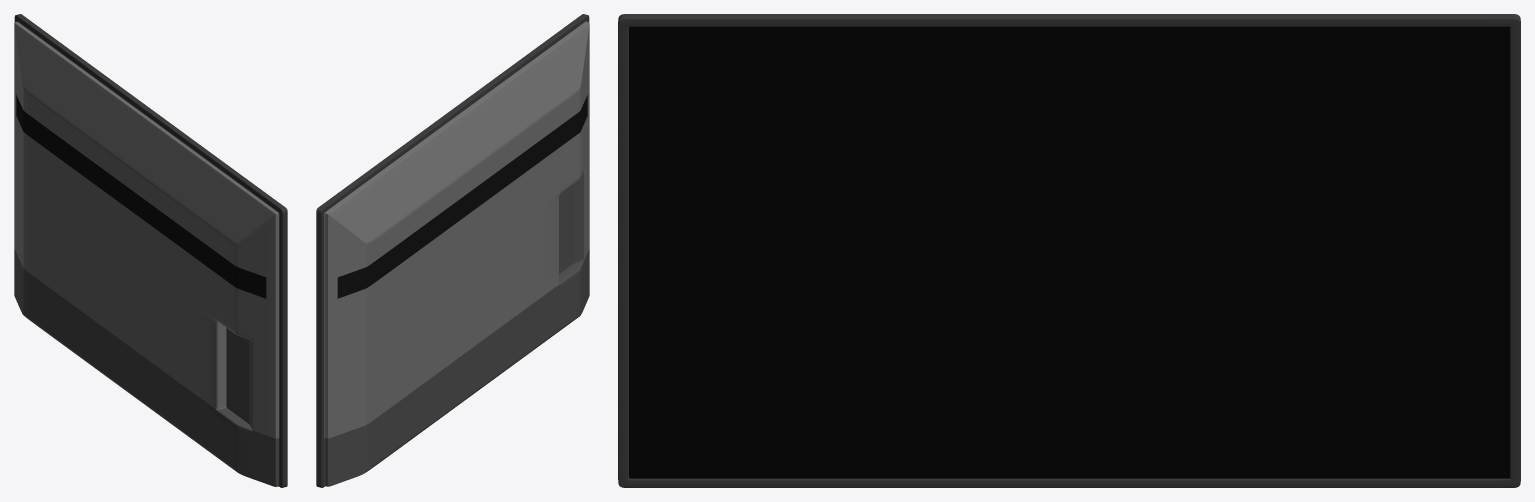
3 views of the same model, side by side, from view 1: azimuth 30°, elevation 25°; view 2: azimuth 150°, elevation 25°; view 3: azimuth 270°, elevation 25° (orthographic). The views are drawn at different scales.
Visible parts, largest first — view 1: Plane; view 2: Plane; view 3: Plane.
Part boxes in pixels (x1,y1,x2,y2): Plane: [14, 14, 287, 487]; Plane: [316, 14, 589, 487]; Plane: [618, 14, 1520, 487].
Bounding box in the file's own units: 3 × 33.1 × 57.6.
Materials: 1 (1 with a texture image).
